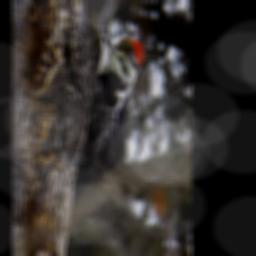Woodpecker: (74, 34, 147, 205)
